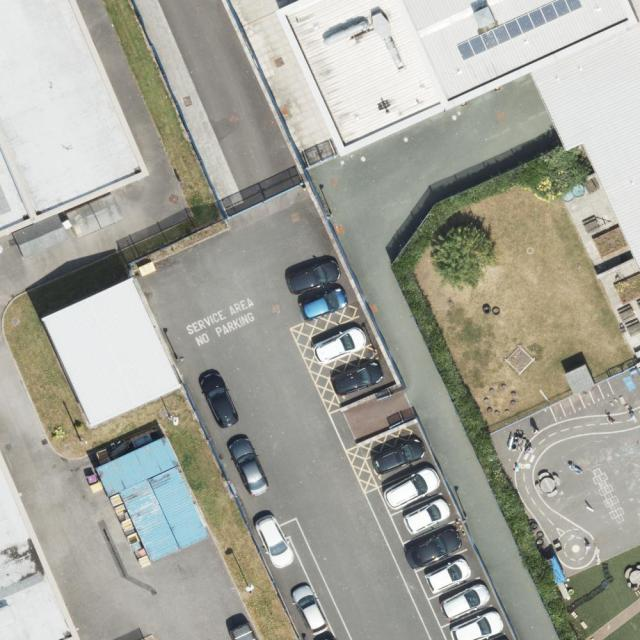roof: (273, 0, 639, 161), (0, 0, 149, 238), (41, 276, 183, 427)
solar: (456, 0, 583, 63)
